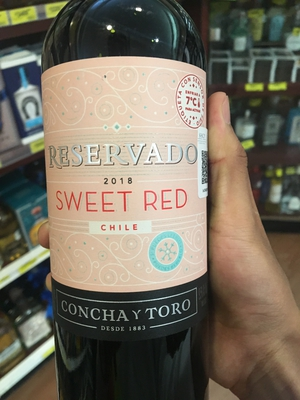reservado sweet red: (28, 17, 218, 384)
